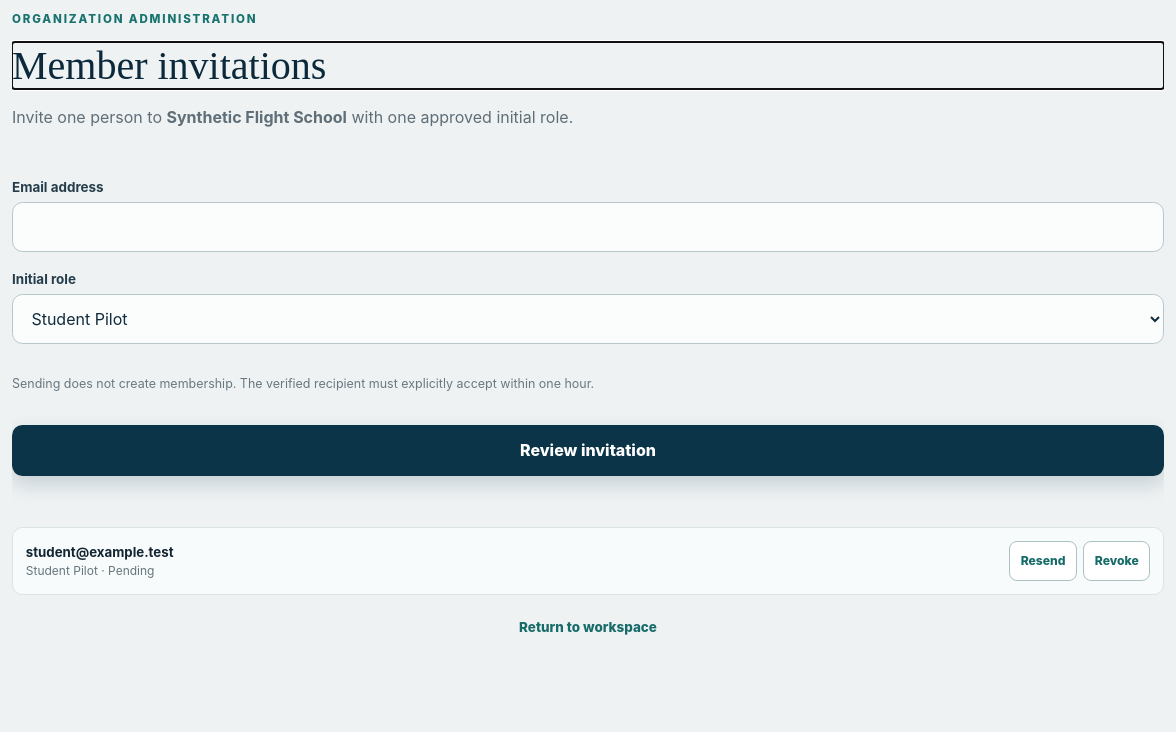
it: FEAT-004 member invitation administration › refreshes after revoke fails while retaining its safe error
The image size is (1176, 732).
Click the button "Revoke".
click(1117, 561)  # box [1083,541,1150,581]
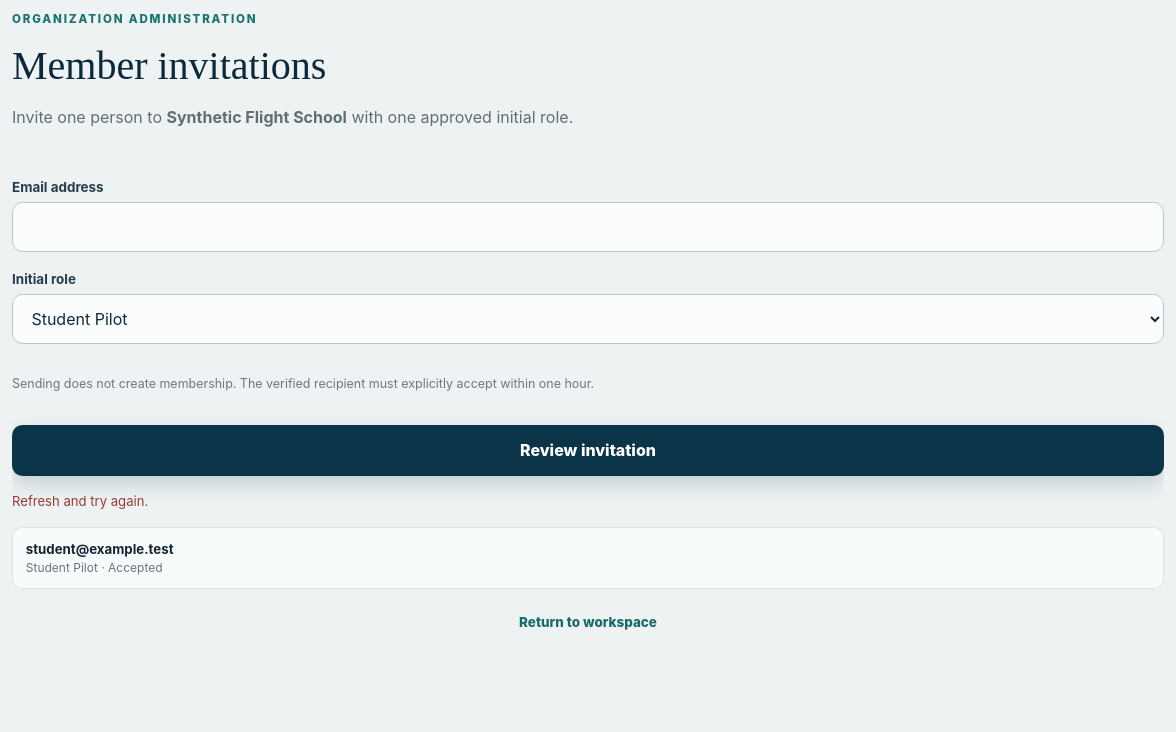
Check: the message reads "Refresh and try again.", box [12,493,148,509]
Check: the list shows "accepted", box [108,560,163,575]
Check: the button "Resend" is gone
